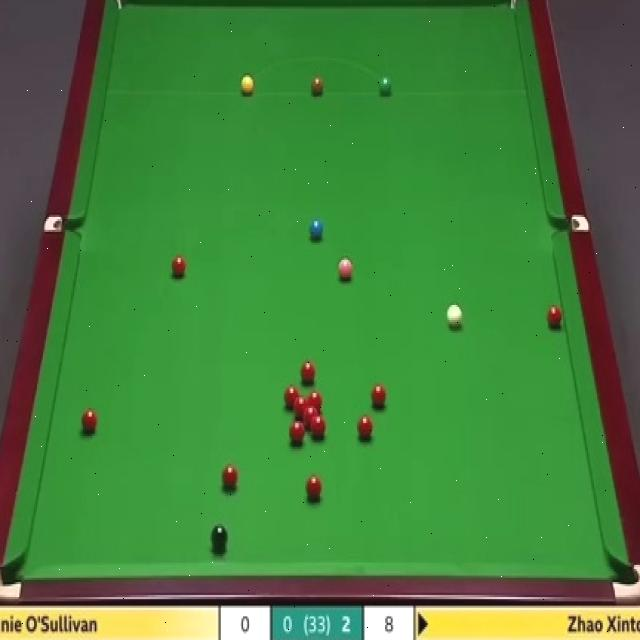black-ball: (210, 523, 228, 552)
blue-ball: (309, 216, 324, 242)
brown-ball: (311, 74, 324, 96)
green-ball: (378, 78, 392, 98)
pink-ball: (338, 257, 353, 281)
red-ball: (356, 414, 375, 443), (369, 382, 388, 411), (546, 302, 564, 330), (81, 406, 98, 434), (306, 473, 322, 502), (222, 464, 239, 489), (300, 360, 315, 387), (289, 420, 304, 446), (311, 414, 326, 440), (284, 384, 298, 410), (172, 254, 186, 277), (308, 391, 322, 412), (294, 396, 308, 416), (304, 406, 318, 426)
white-ball: (445, 298, 465, 330)
yellow-ball: (240, 76, 254, 98)
